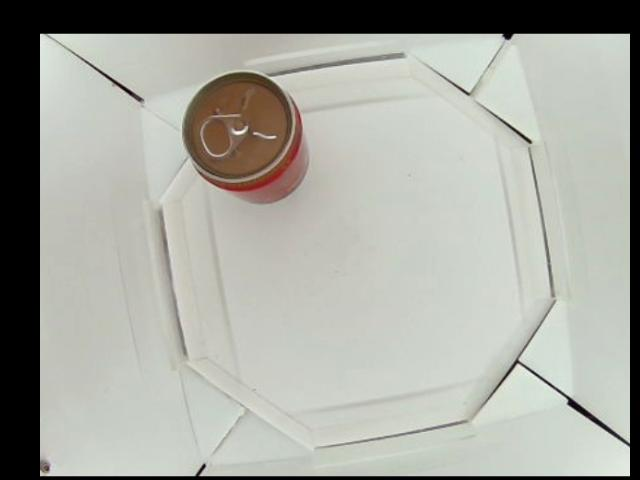Bottle: (181, 70, 311, 203)
